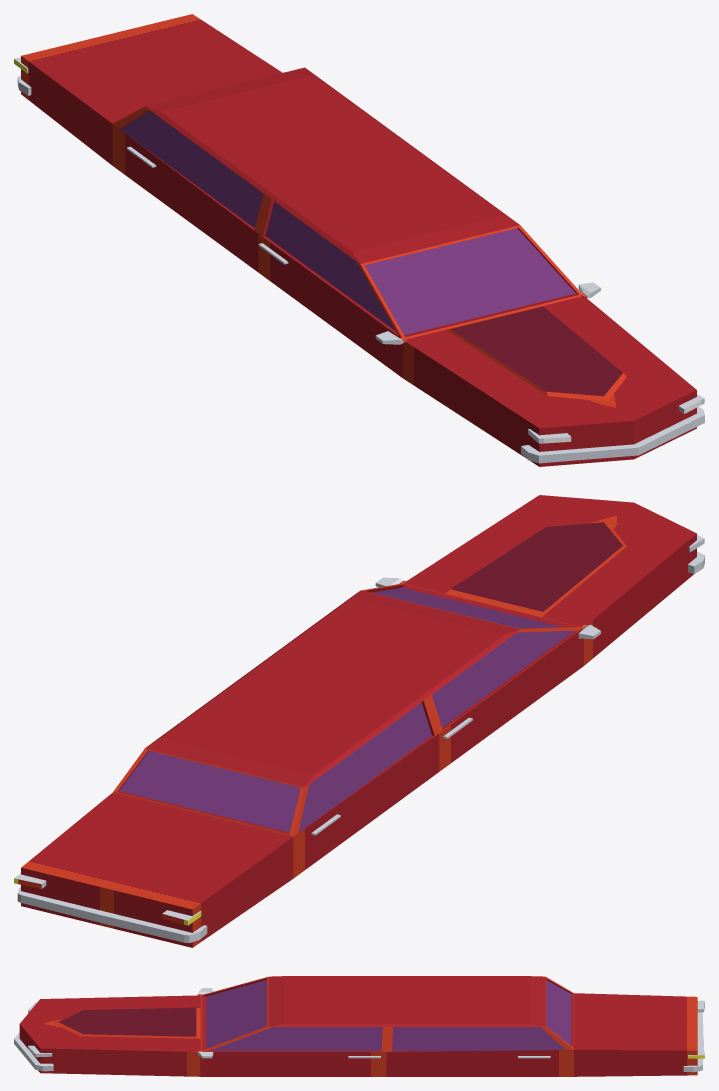
Rendered from red.glb.
The picture shows the model from 3 angles, top to bottom: view 1: azimuth 30°, elevation 25°; view 2: azimuth 150°, elevation 25°; view 3: azimuth 270°, elevation 25°; orthographic projection. The views are drawn at different scales.
Visible parts, largest first — view 1: SedanRed1; view 2: SedanRed1; view 3: SedanRed1.
Part boxes in pixels (box(x1,y1,x2,y2)): SedanRed1: box(14, 14, 704, 466); SedanRed1: box(14, 495, 704, 947); SedanRed1: box(14, 976, 704, 1076).
Bounding box in the file's own units: 8.51 × 2.81 × 36.34.
Materials: 1 (1 with a texture image).
